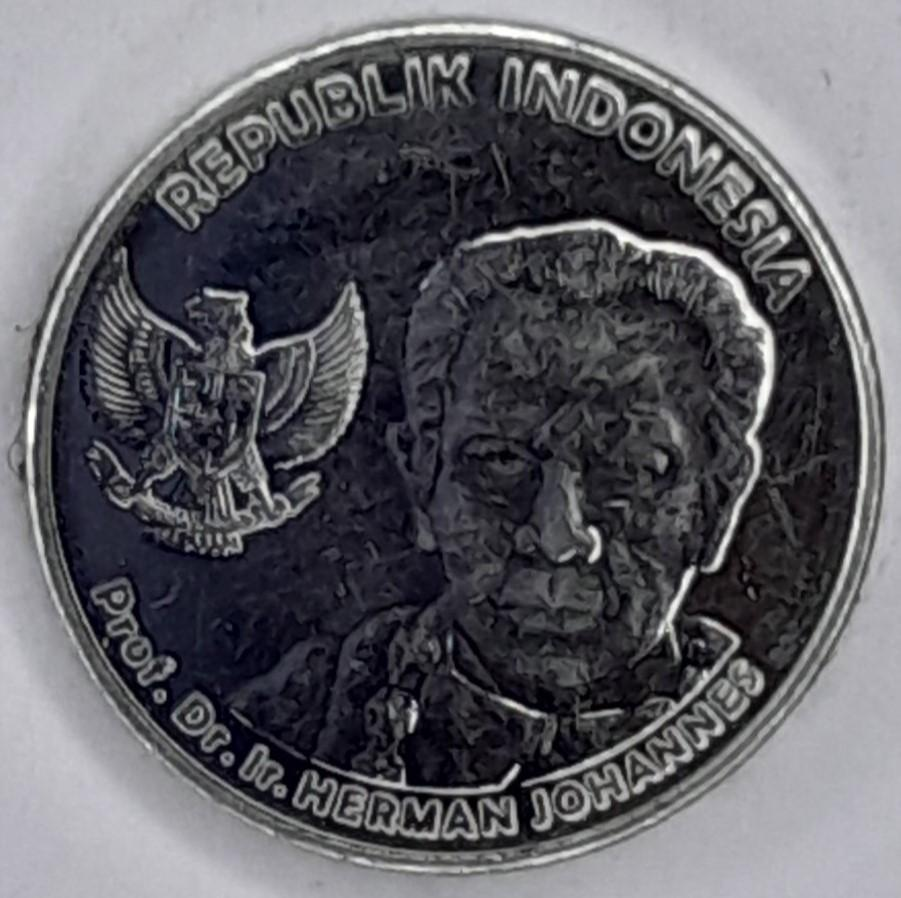coin_100_e2016: (12, 14, 889, 877)
